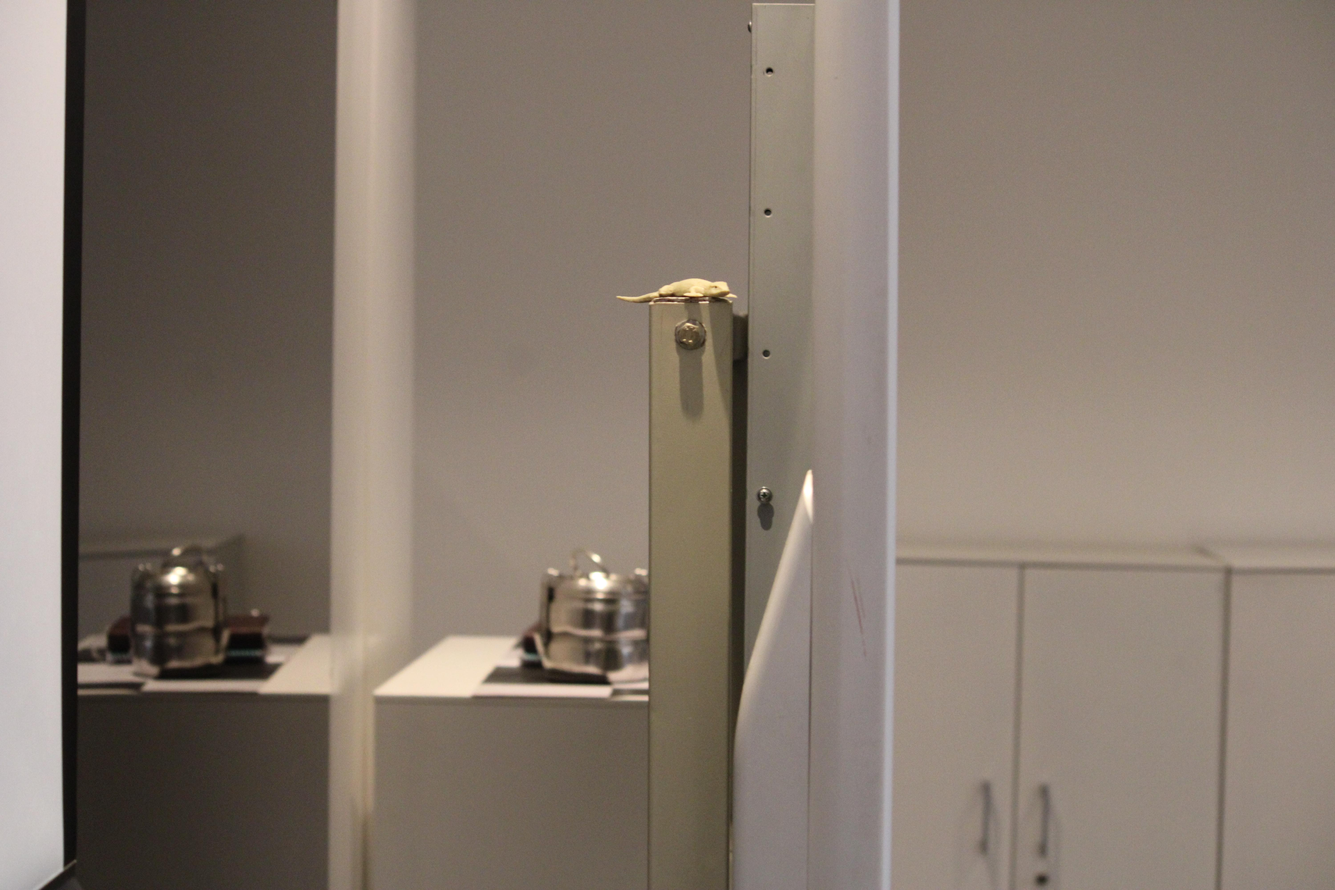lizard: (621, 265, 743, 306)
